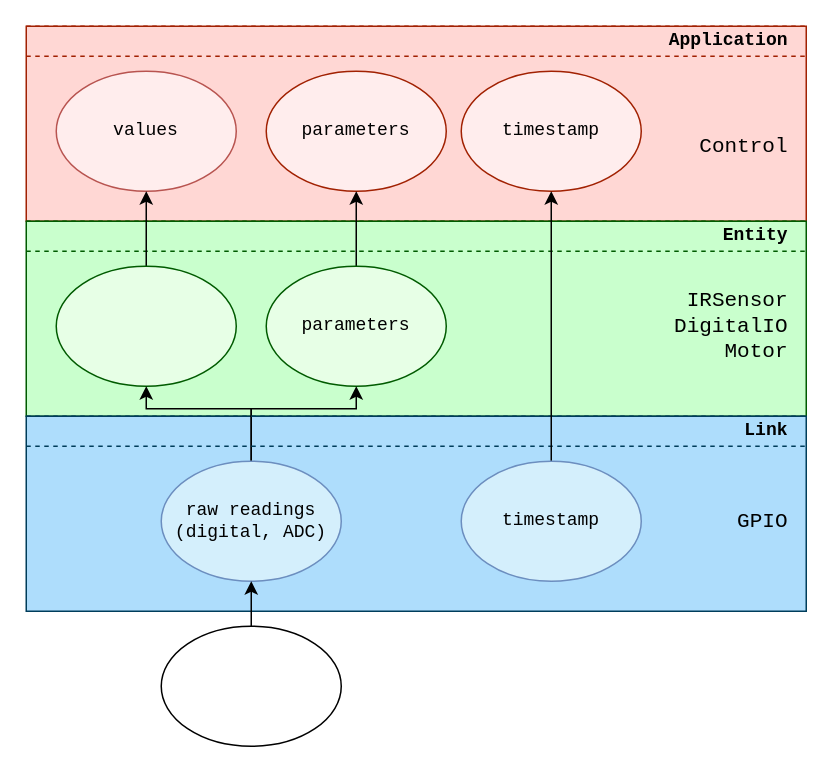
Some shapes in this 834 by 773 pixel diagram are drawn without their labels. The shapes that lost their labels are listed below. From the top down, each one's box as (x1, y1, x2, y2) in pixels, then its label:
(55, 265, 236, 386): processed values (1/0, x.x)
(160, 625, 341, 746): physical world
